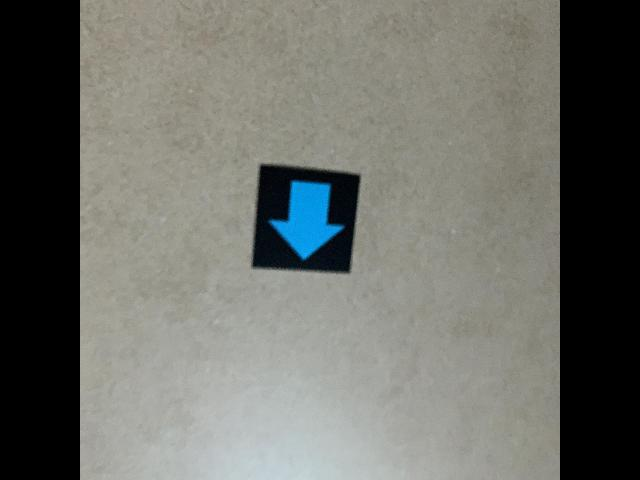down: (249, 160, 362, 277)
